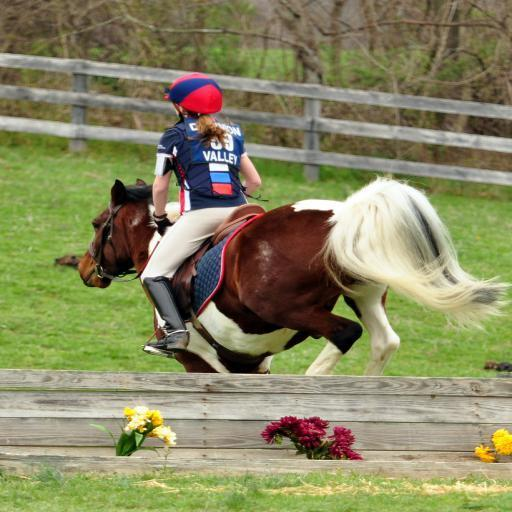horse: (78, 178, 512, 375)
